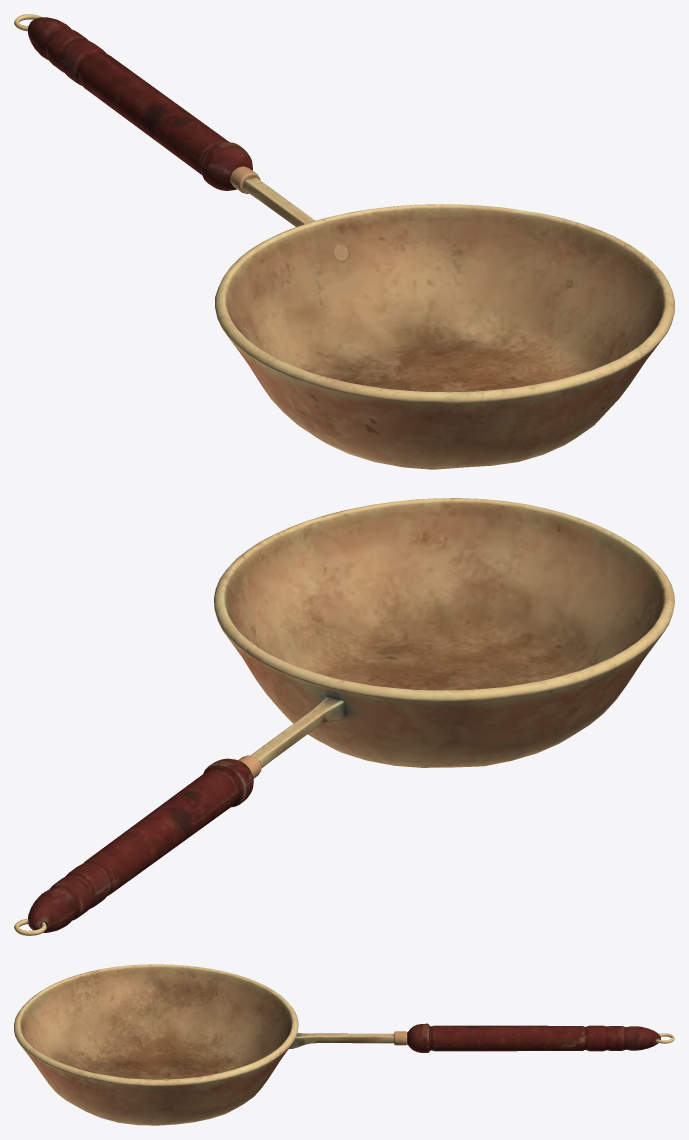
File: brass_pan_01.glb
The picture shows the model from 3 angles, top to bottom: view 1: azimuth 30°, elevation 25°; view 2: azimuth 150°, elevation 25°; view 3: azimuth 270°, elevation 25°; orthographic projection. The views are drawn at different scales.
Visible parts, largest first — view 1: brass_pan_01; view 2: brass_pan_01; view 3: brass_pan_01.
Boxes of the visible parts, x1=… form: brass_pan_01: x1=14, y1=14, x2=674, y2=469; brass_pan_01: x1=14, y1=498, x2=674, y2=935; brass_pan_01: x1=14, y1=964, x2=674, y2=1125.
Bounding box in the file's own units: 0.1913 × 0.0525 × 0.4497.
1 material, 1 textured.
